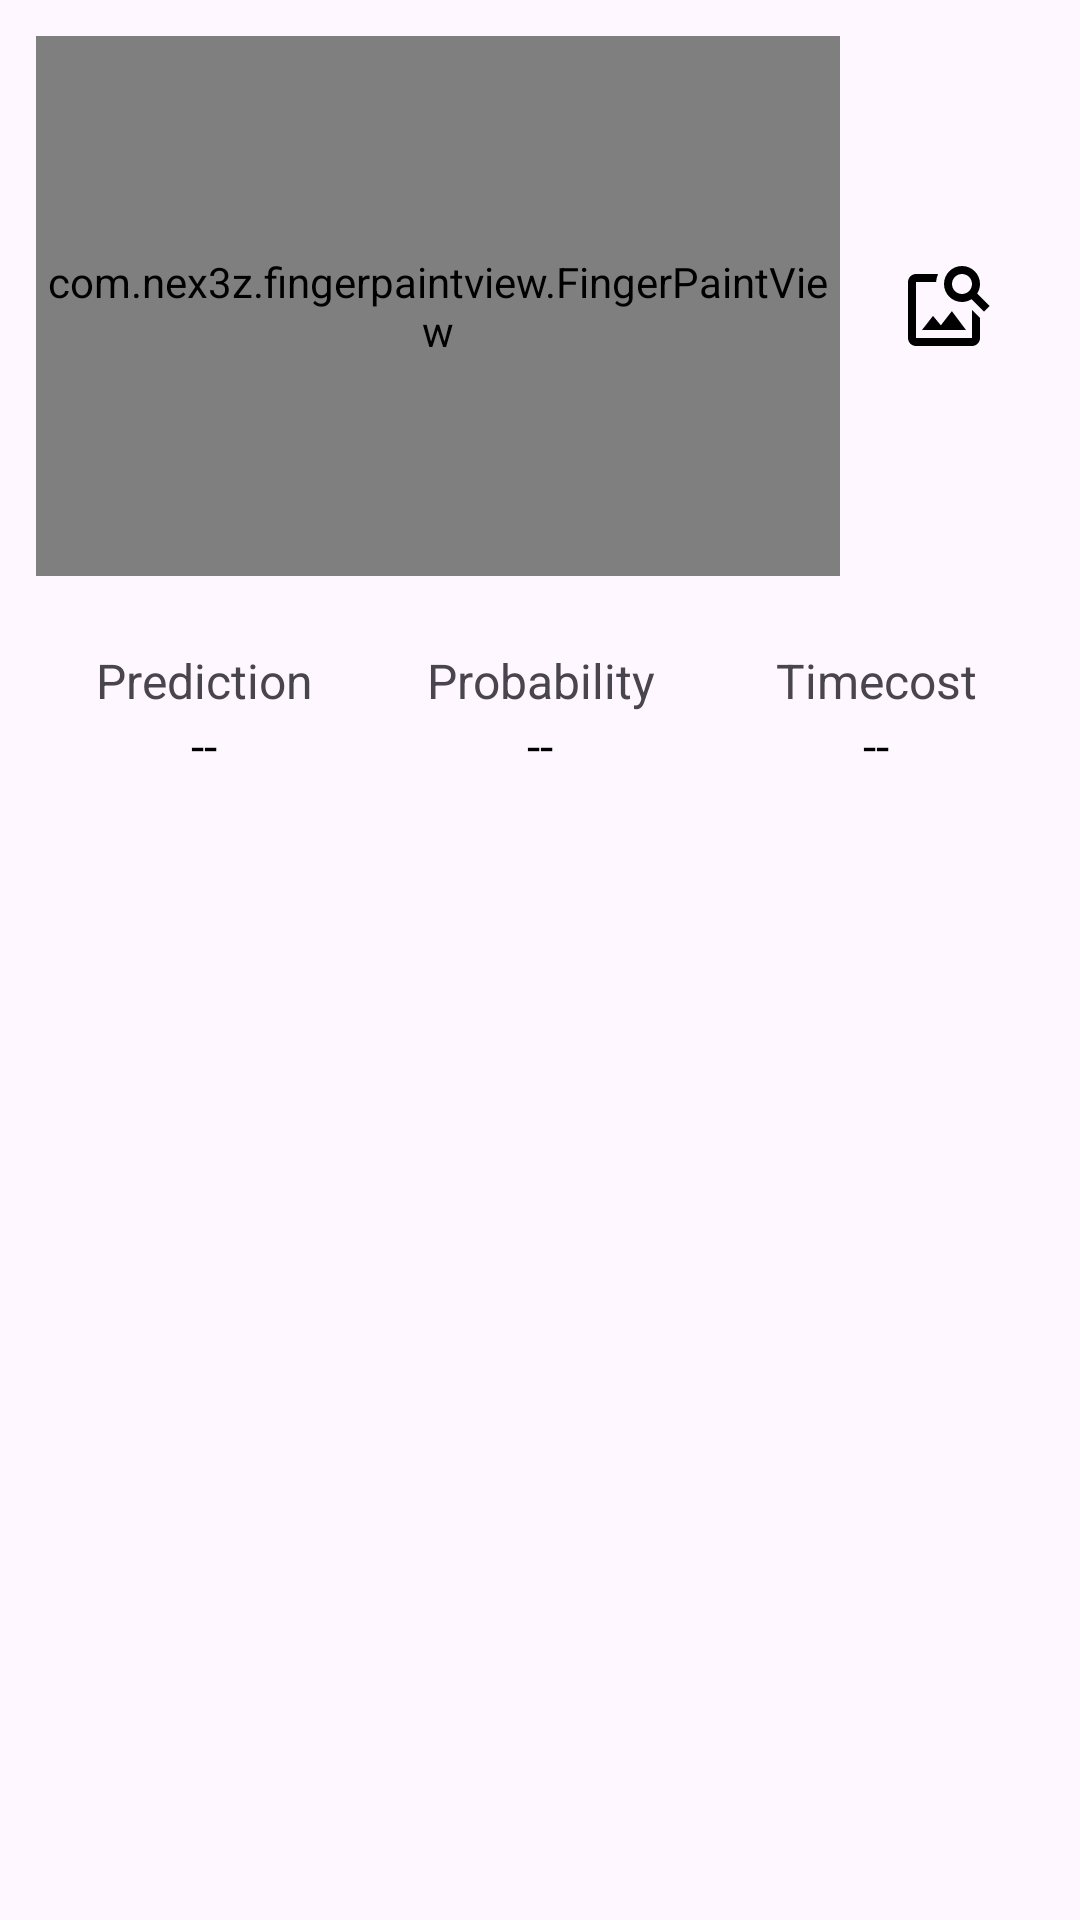

Screen size 1080w x 1920h. Icon name, then its box in pixels as {"x1": x1, "y1": y1, "x2": x2, "y2": y2}:
Classifies the image given in the drawing: {"x1": 908, "y1": 266, "x2": 990, "y2": 346}
